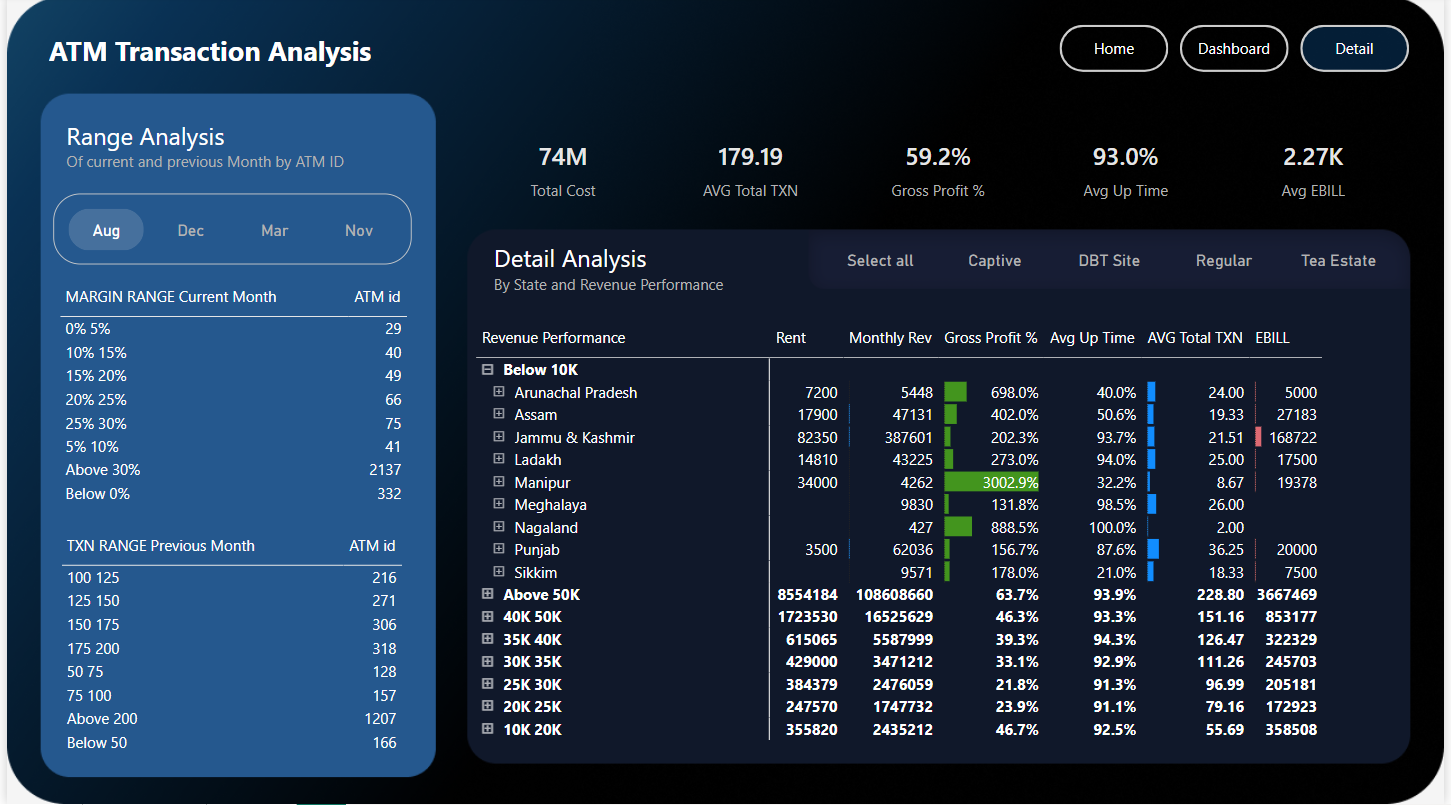

Layout of this report page (visuals, bound fields, positions):
{"tool":"powerbi","page":{"name":"Detail","canvas":[1280,720],"ordinal":2},"visuals":[{"type":"tableEx","fields":{"Values":["Data Source.MARGIN RANGE Current Month","Data Source.ATM id"]},"box":[41,251.1,326.3,222.1],"z":1000},{"type":"tableEx","fields":{"Values":["Data Source.TXN RANGE Previous Month","Data Source.ATM id"]},"box":[42.7,473.2,341.6,206.7],"z":2000},{"type":"pivotTable","fields":{"Rows":["Data Source.Revenue Performance","Data Source.STATE","Data Source.ATM id"],"Values":["Sum(Data Source.RENT)","Sum(Data Source.Monthly Rev)","Data Source.Gross Profit Percentage","Avg(Data Source.Up Time)","Avg(Data Source.AVG Total TXN)","Sum(Data Source. EBILL )"]},"box":[413.4,288.7,826.8,392.9],"z":3000},{"type":"advancedSlicerVisual","fields":{"Values":["Data Source.MOnth-Short"]},"box":[41,175.9,319.4,63.2],"z":4000},{"type":"advancedSlicerVisual","fields":{"Values":["Data Source.ATM TYPE"]},"box":[726,213.5,514.2,42.7],"z":5000},{"type":"cardVisual","fields":{"Data":["Sum(Data Source. Total Cost  )","Avg(Data Source.AVG Total TXN)","Data Source.Gross Profit Percentage","Avg(Data Source.Up Time)","Avg(Data Source. EBILL )"]},"box":[410.8,104.6,841.8,90.6],"z":6000},{"type":"textbox","box":[47.8,104.2,287,71.7],"z":7000},{"type":"textbox","box":[428.8,213.5,259.6,68.3],"z":8000},{"type":"textbox","box":[32.8,28.1,343.6,51.5],"z":9000},{"type":"pageNavigator","box":[937.8,25.6,312.6,42.7],"z":10000}]}

Visuals, with their boxes in screenshot pixels (x1, y1, x2, y2), scaled from the page's 1280x720 canvas onto the 1451x805 screenshot:
tableEx - Data Source.MARGIN RANGE Current Month x Data Source.ATM id: {"left": 46, "top": 281, "right": 416, "bottom": 529}
tableEx - Data Source.TXN RANGE Previous Month x Data Source.ATM id: {"left": 48, "top": 529, "right": 436, "bottom": 760}
pivotTable - Data Source.Revenue Performance x Data Source.STATE: {"left": 469, "top": 323, "right": 1406, "bottom": 762}
advancedSlicerVisual - Data Source.MOnth-Short: {"left": 46, "top": 197, "right": 409, "bottom": 267}
advancedSlicerVisual - Data Source.ATM TYPE: {"left": 823, "top": 239, "right": 1406, "bottom": 286}
cardVisual - Sum(Data Source. Total Cost  ) x Avg(Data Source.AVG Total TXN): {"left": 466, "top": 117, "right": 1420, "bottom": 218}
textbox: {"left": 54, "top": 117, "right": 380, "bottom": 197}
textbox: {"left": 486, "top": 239, "right": 780, "bottom": 315}
textbox: {"left": 37, "top": 31, "right": 427, "bottom": 89}
pageNavigator: {"left": 1063, "top": 29, "right": 1417, "bottom": 76}
